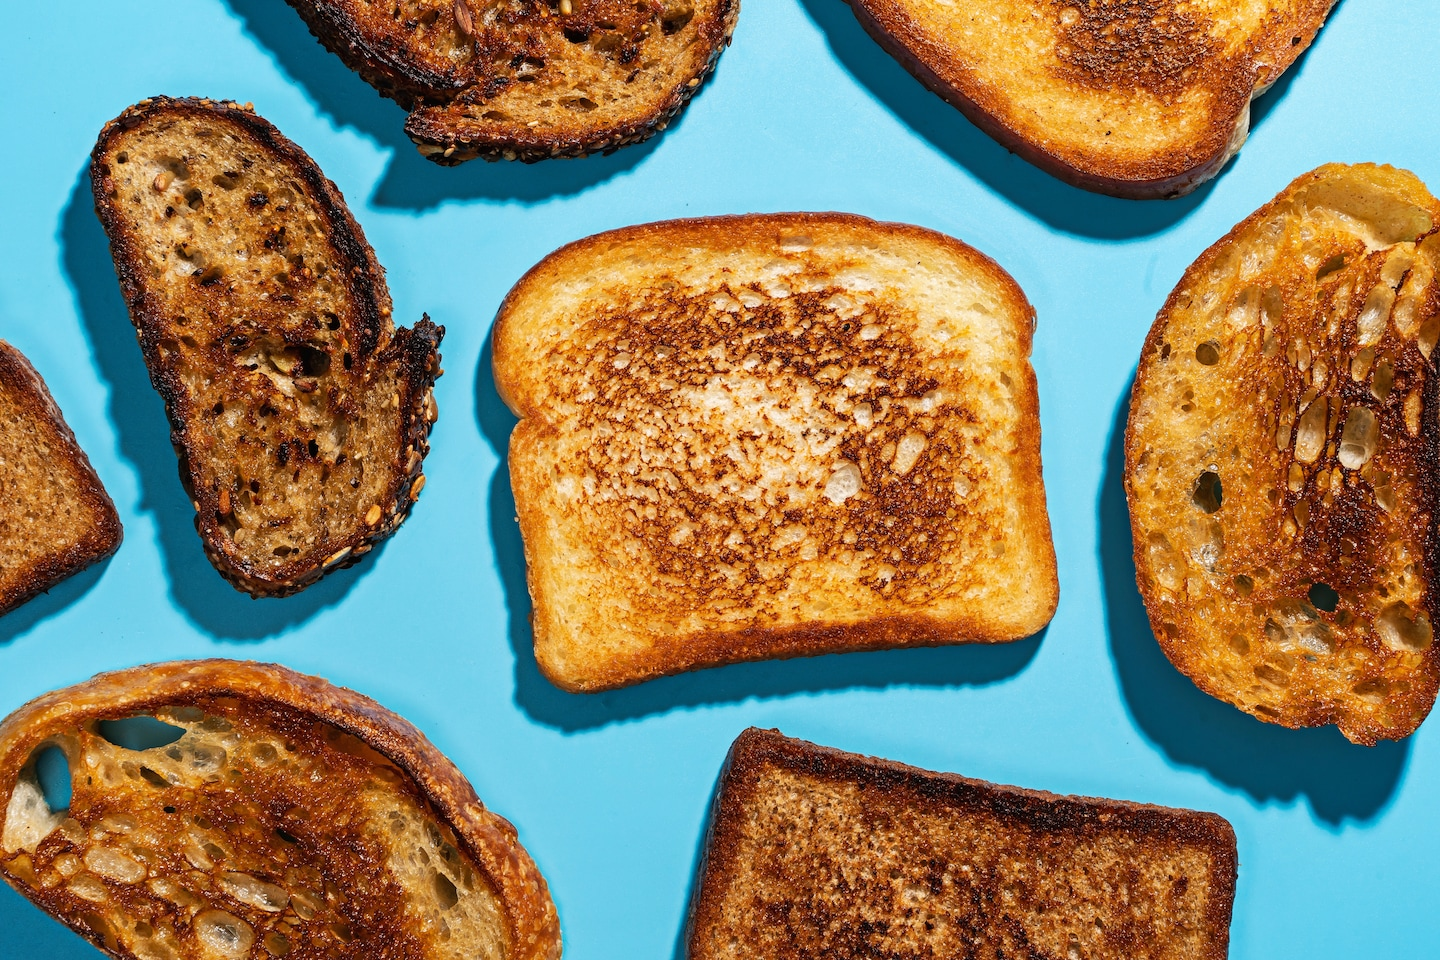Toast: (487, 207, 1061, 693), (84, 80, 439, 592), (1121, 157, 1434, 732), (0, 661, 561, 959)
